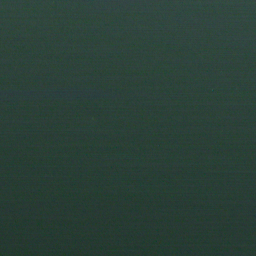con: (110, 45, 149, 80)
